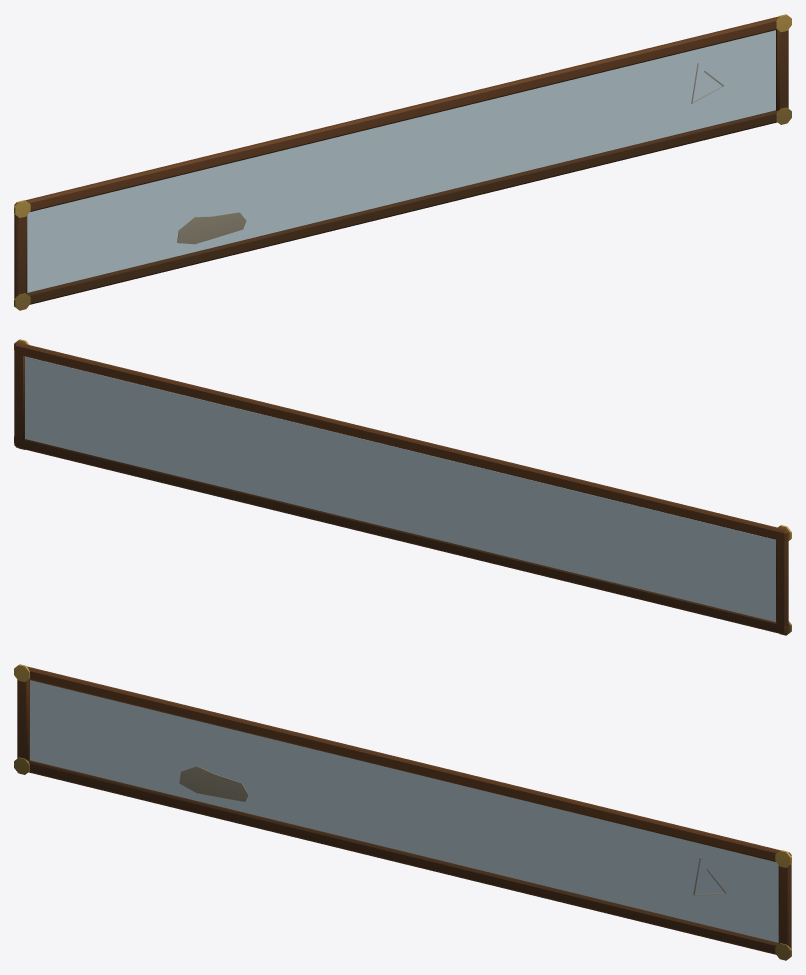
File: 59_miroir_bar.fbx
The picture shows the model from 3 angles, top to bottom: view 1: azimuth 30°, elevation 25°; view 2: azimuth 150°, elevation 25°; view 3: azimuth 330°, elevation 25°; orthographic projection.
Visible parts, largest first — view 1: Miroir, Cadre; view 2: Miroir, Cadre; view 3: Miroir, Cadre.
Boxes of the visible parts, <box> form: Miroir: <box>27,30,775,292</box>; Cadre: <box>14,14,791,310</box>; Miroir: <box>25,356,775,621</box>; Cadre: <box>14,339,791,635</box>; Miroir: <box>30,680,778,942</box>; Cadre: <box>14,664,791,960</box>.
Size of the model in its own units: 3.36 by 0.448 by 0.028.
1 material, 1 textured.
